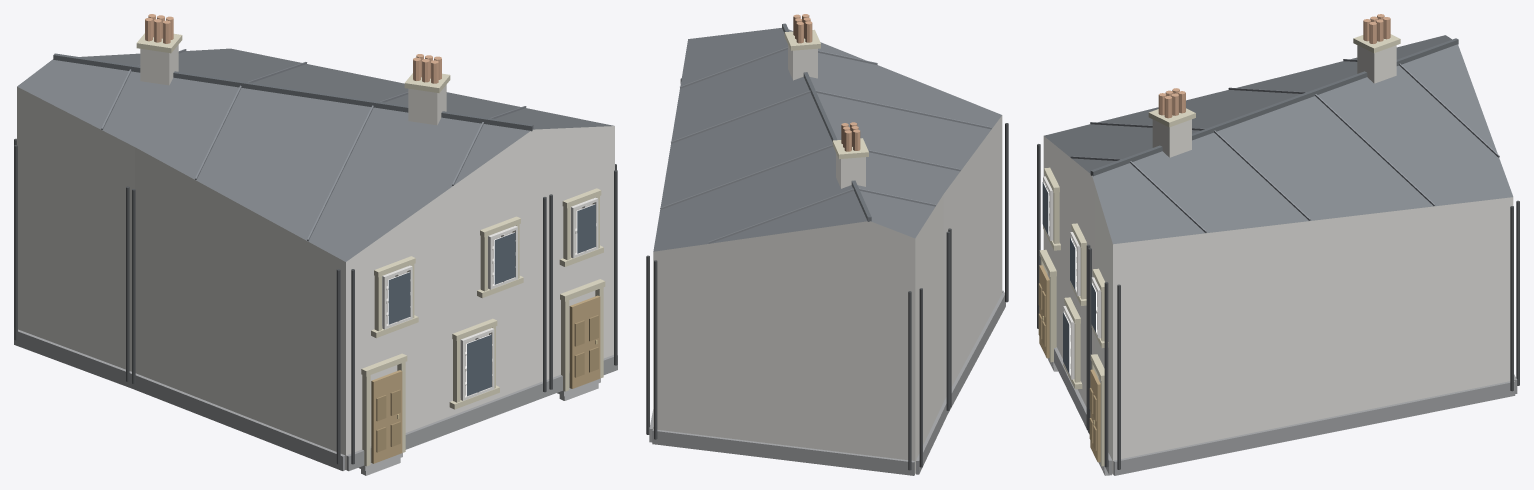
3 views of the same model, side by side, from view 1: azimuth 30°, elevation 25°; view 2: azimuth 150°, elevation 25°; view 3: azimuth 270°, elevation 25° (orthographic). The views are drawn at different scales.
Parts seen in each view (by area): view 1: harl, slate, dress_buff, plinth, pipe, door_wood, slate_dk, frame, chim_render, door_wood_p, pot, slate_lt (+5 smaller); view 2: harl, slate, plinth, pipe, slate_lt, chim_render, pot, dress_buff, slate_dk; view 3: harl, slate, plinth, dress_buff, pipe, chim_render, slate_dk, slate_lt, frame, pot, door_wood, door_wood_p.
Part boxes in pixels (bbox=[...]): harl: bbox=[17, 87, 614, 469]; slate: bbox=[17, 48, 613, 261]; dress_buff: bbox=[136, 33, 605, 466]; plinth: bbox=[14, 327, 617, 471]; pipe: bbox=[14, 138, 617, 464]; door_wood: bbox=[371, 295, 600, 463]; slate_dk: bbox=[53, 53, 533, 131]; frame: bbox=[382, 197, 598, 400]; chim_render: bbox=[140, 45, 446, 125]; door_wood_p: bbox=[376, 315, 598, 452]; pot: bbox=[145, 14, 441, 83]; slate_lt: bbox=[101, 49, 526, 241]; harl: bbox=[653, 115, 1002, 473]; slate: bbox=[653, 28, 1001, 251]; plinth: bbox=[649, 290, 1005, 475]; pipe: bbox=[646, 78, 1008, 470]; slate_lt: bbox=[660, 47, 991, 243]; chim_render: bbox=[788, 45, 865, 188]; pot: bbox=[793, 14, 860, 151]; dress_buff: bbox=[784, 29, 868, 159]; slate_dk: bbox=[782, 23, 871, 221]; harl: bbox=[1043, 136, 1513, 473]; slate: bbox=[1044, 35, 1513, 244]; plinth: bbox=[1054, 347, 1517, 475]; dress_buff: bbox=[1039, 34, 1400, 466]; pipe: bbox=[1037, 144, 1519, 469]; chim_render: bbox=[1152, 45, 1396, 157]; slate_dk: bbox=[1090, 38, 1458, 176]; slate_lt: bbox=[1070, 59, 1499, 232]; frame: bbox=[1043, 176, 1101, 379]; pot: bbox=[1158, 14, 1390, 118]; door_wood: bbox=[1039, 265, 1100, 462]; door_wood_p: bbox=[1038, 283, 1096, 450].
Bounding box in the file's own units: 11.66 × 8.67 × 11.87.
